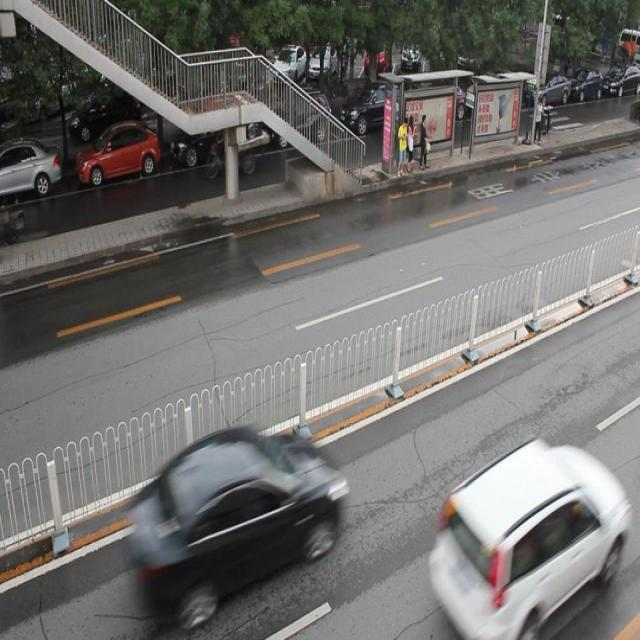car: (427, 438, 619, 640), (128, 428, 344, 606), (74, 118, 160, 184), (169, 99, 257, 162), (264, 90, 330, 148), (341, 79, 408, 133), (1, 136, 59, 197)
